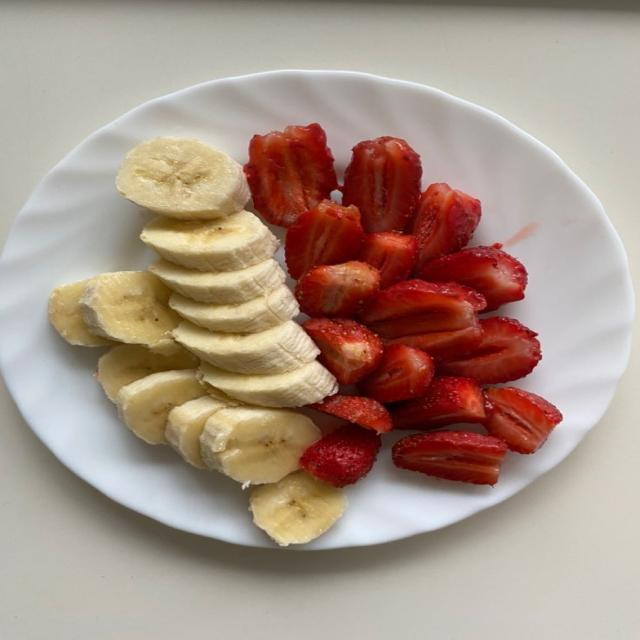banana slice: (117, 138, 249, 219), (200, 406, 321, 486), (140, 211, 278, 271), (80, 271, 180, 352), (174, 321, 319, 374), (250, 471, 346, 546), (116, 370, 206, 444), (199, 361, 338, 407), (169, 285, 299, 333), (149, 259, 286, 304), (96, 345, 199, 401), (166, 396, 227, 468), (48, 280, 114, 346), (197, 370, 242, 406)
strawberry sliced: (243, 123, 337, 227), (343, 136, 421, 232), (361, 279, 485, 339), (405, 183, 481, 279), (437, 316, 540, 383), (422, 248, 526, 312), (392, 430, 506, 485), (285, 200, 363, 279), (303, 318, 383, 385), (483, 388, 562, 453), (391, 377, 484, 431), (300, 425, 380, 487), (295, 260, 379, 318), (359, 345, 433, 403), (357, 231, 416, 289), (308, 394, 391, 433)
